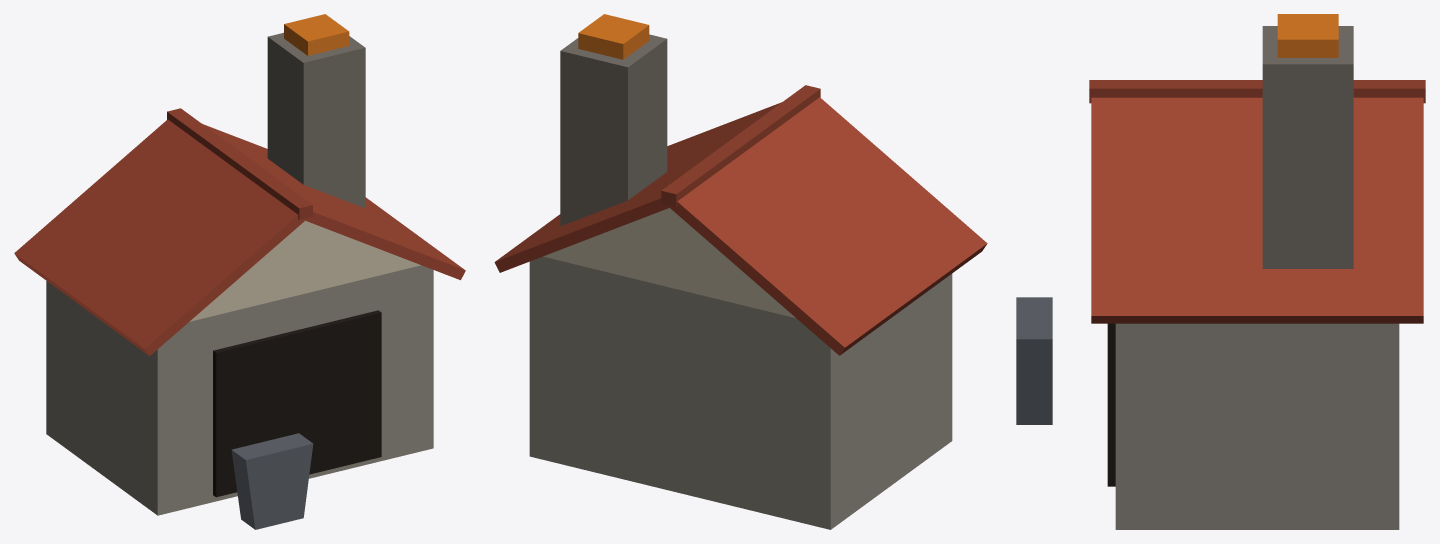
The model's file is dwarf_house_c_broken.glb.
3 views of the same model, side by side, from view 1: azimuth 30°, elevation 25°; view 2: azimuth 150°, elevation 25°; view 3: azimuth 270°, elevation 25° (orthographic). The views are drawn at different scales.
Parts seen in each view (by area): view 1: dwarf_house_c_piece5, dwarf_house_c_piece4, dwarf_house_c_piece6, dwarf_house_c_piece1, dwarf_house_c_piece0, dwarf_house_c_piece11, dwarf_house_c_piece9, dwarf_house_c_piece7, dwarf_house_c_piece8, dwarf_house_c_piece2, dwarf_house_c_piece10; view 2: dwarf_house_c_piece3, dwarf_house_c_piece5, dwarf_house_c_piece9, dwarf_house_c_piece8, dwarf_house_c_piece0, dwarf_house_c_piece1, dwarf_house_c_piece11, dwarf_house_c_piece4, dwarf_house_c_piece10, dwarf_house_c_piece6, dwarf_house_c_piece2, dwarf_house_c_piece7; view 3: dwarf_house_c_piece6, dwarf_house_c_piece7, dwarf_house_c_piece2, dwarf_house_c_piece8, dwarf_house_c_piece3, dwarf_house_c_piece4, dwarf_house_c_piece9, dwarf_house_c_piece5, dwarf_house_c_piece0.
Boxes of the visible parts, x1,y1,x2,y2 form: dwarf_house_c_piece5: (56,173,315,478); dwarf_house_c_piece4: (117,198,372,529); dwarf_house_c_piece6: (295,192,465,462); dwarf_house_c_piece1: (46,208,381,478); dwarf_house_c_piece0: (14,158,321,382); dwarf_house_c_piece11: (18,244,315,486); dwarf_house_c_piece9: (64,108,272,209); dwarf_house_c_piece7: (301,22,400,222); dwarf_house_c_piece8: (225,14,335,179); dwarf_house_c_piece2: (275,101,409,229); dwarf_house_c_piece10: (53,384,311,481); dwarf_house_c_piece3: (494,191,773,513); dwarf_house_c_piece5: (760,85,987,465); dwarf_house_c_piece9: (620,148,790,413); dwarf_house_c_piece8: (498,22,749,259); dwarf_house_c_piece0: (741,119,848,411); dwarf_house_c_piece1: (734,119,852,529); dwarf_house_c_piece11: (823,245,908,477); dwarf_house_c_piece4: (738,102,952,472); dwarf_house_c_piece10: (838,463,901,513); dwarf_house_c_piece6: (667,120,742,163); dwarf_house_c_piece2: (659,81,740,177); dwarf_house_c_piece7: (510,14,667,250); dwarf_house_c_piece6: (1091,126,1348,529); dwarf_house_c_piece7: (1254,19,1387,468); dwarf_house_c_piece2: (1186,104,1395,529); dwarf_house_c_piece8: (1221,14,1418,340); dwarf_house_c_piece3: (1353,146,1423,529); dwarf_house_c_piece4: (1016,103,1170,424); dwarf_house_c_piece9: (1353,80,1425,181); dwarf_house_c_piece5: (1089,80,1209,123); dwarf_house_c_piece0: (1148,80,1262,148).
Bounding box in the file's own units: 2.33 × 2.6 × 2.02.
